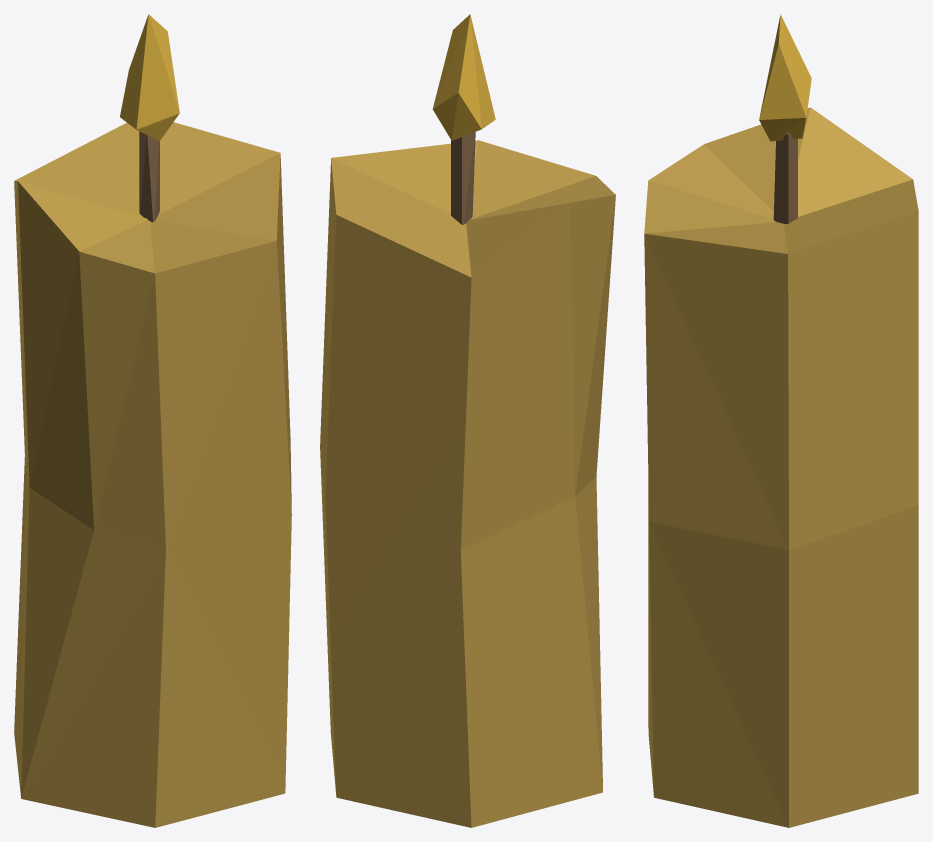
File: Candle_02.fbx
3 renders of one model, left to right at view 1: azimuth 30°, elevation 25°; view 2: azimuth 150°, elevation 25°; view 3: azimuth 270°, elevation 25°, orthographic.
Parts seen in each view (by area): view 1: Candle_02; view 2: Candle_02; view 3: Candle_02.
Boxes of the visible parts, bbox=[...] form: Candle_02: bbox=[14, 14, 291, 827]; Candle_02: bbox=[320, 14, 615, 827]; Candle_02: bbox=[644, 14, 918, 827].
Bounding box in the file's own units: 0.2248 × 0.583 × 0.1938.
